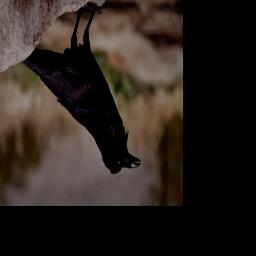Crow: (20, 5, 142, 180)
